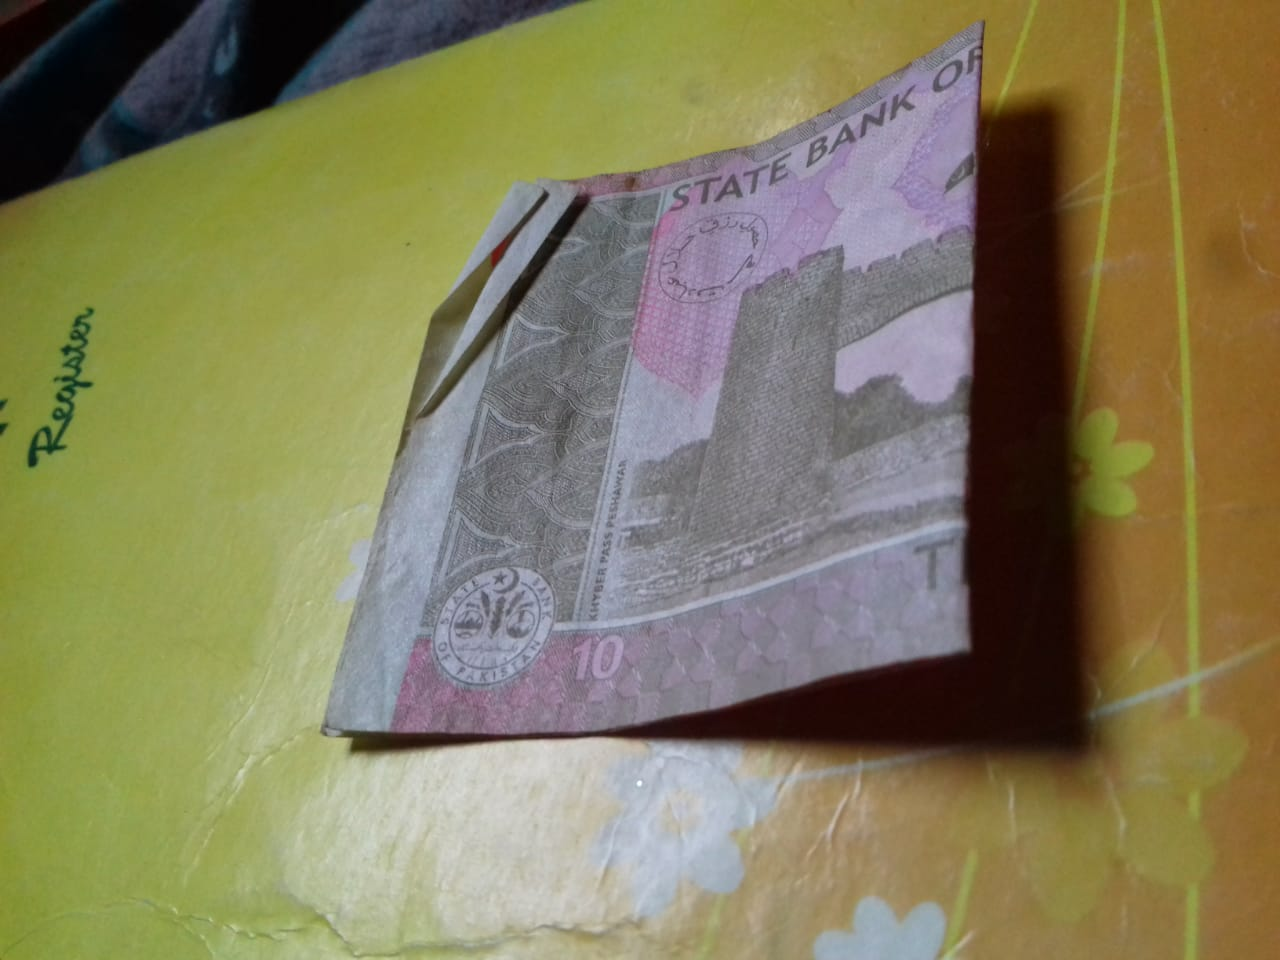10 rupee: (317, 8, 1065, 784)
